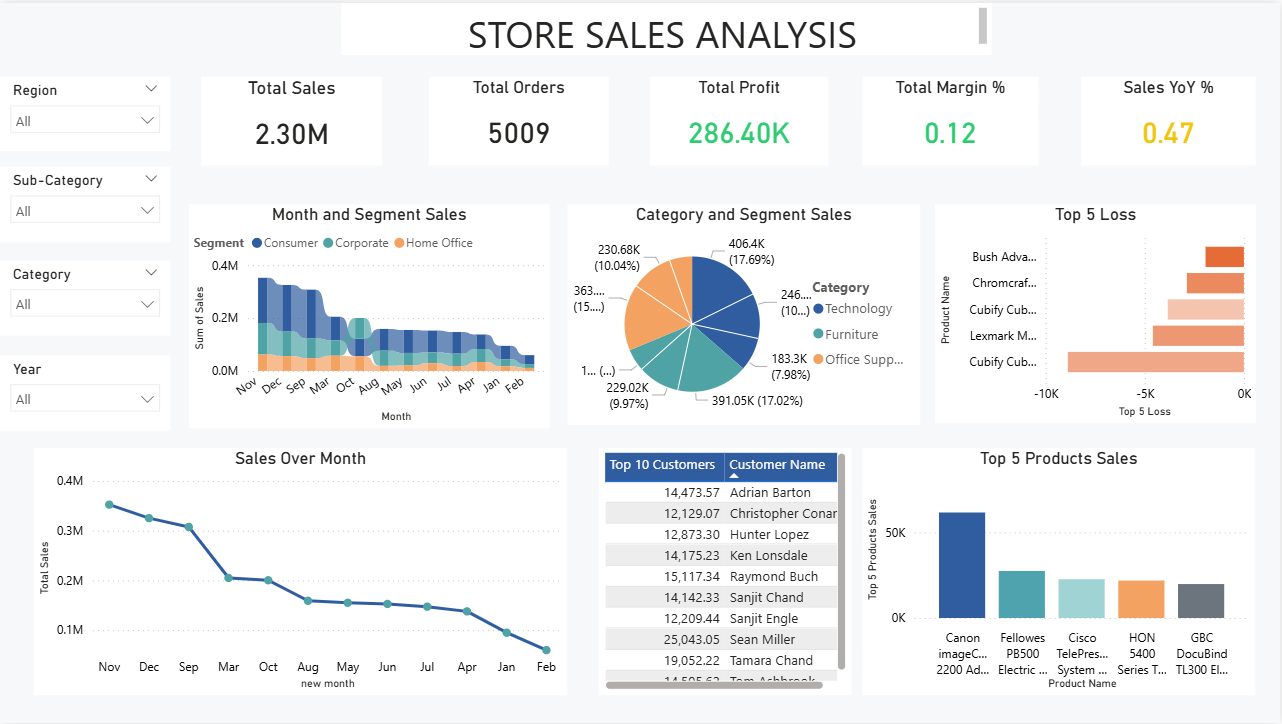

The dashboard page shown, as its layout file describes it:
{"tool":"powerbi","page":{"name":"sales","canvas":[1280,720],"ordinal":0},"visuals":[{"type":"slicer","fields":{"Values":["Date Table.Year"]},"box":[0,559.9,170.2,76.8],"z":0},{"type":"slicer","fields":{"Values":["Sample - Superstore.Region"]},"box":[0,90.6,170.2,83.7],"z":1000},{"type":"slicer","fields":{"Values":["Sample - Superstore.Sub-Category"]},"box":[0,227.8,170.2,78.2],"z":2000},{"type":"slicer","fields":{"Values":["Sample - Superstore.Category"]},"box":[0,391.1,170.2,81],"z":3000},{"type":"lineChart","fields":{"Y":["m.Total Sales"],"Category":["Sample - Superstore.new month"]},"box":[469.3,430.9,393.8,256.6],"z":4000},{"type":"pieChart","fields":{"Category":["Sample - Superstore.Category"],"Y":["m.Total Sales"],"Series":["Sample - Superstore.Segment"]},"box":[588.7,196.2,352.7,218.2],"z":5000},{"type":"tableEx","fields":{"Values":["m.Top 10 Customers","Sample - Superstore.Customer Name"]},"box":[189.4,424,252.5,263.5],"z":6000},{"type":"lineStackedColumnComboChart","fields":{"Category":["Sample - Superstore.Product Name"],"Y":["m.Top 5 Products Sales"]},"box":[891.9,428.1,348.5,263.5],"z":7000},{"type":"barChart","fields":{"Category":["Sample - Superstore.Product Name"],"Y":["m.Top 5 Loss"]},"box":[941.4,195.7,305.7,218.6],"z":8000},{"type":"card","fields":{"Values":["m.Total Sales"]},"box":[190,74.3,182.9,100],"z":9000},{"type":"card","fields":{"Values":["m.Total Profit"]},"box":[654.3,74.3,181.4,100],"z":10000},{"type":"card","fields":{"Values":["m.Profit Margin %"]},"box":[862.9,74.3,181.4,100],"z":11000},{"type":"card","fields":{"Values":["m.Total Orders"]},"box":[441.4,74.3,182,100],"z":12000},{"type":"card","fields":{"Values":["m.Sales YoY %"]},"box":[1065.7,74.3,181.4,100],"z":13000},{"type":"textbox","box":[341.4,0,650,60],"z":14000},{"type":"ribbonChart","fields":{"Category":["Date Table.Month"],"Series":["Sample - Superstore.Segment"],"Y":["Sample - Superstore.Sales"]},"box":[170.2,190.7,380.1,223.7],"z":15000}]}

Visuals, with their boxes in screenshot pixels (x1, y1, x2, y2), scaled from the page's 1280x720 canvas onto the 1282x724 screenshot:
slicer - Date Table.Year: 0/563/170/640
slicer - Sample - Superstore.Region: 0/91/170/175
slicer - Sample - Superstore.Sub-Category: 0/229/170/308
slicer - Sample - Superstore.Category: 0/393/170/475
lineChart - m.Total Sales x Sample - Superstore.new month: 470/433/864/691
pieChart - Sample - Superstore.Category x m.Total Sales: 590/197/943/417
tableEx - m.Top 10 Customers x Sample - Superstore.Customer Name: 190/426/443/691
lineStackedColumnComboChart - Sample - Superstore.Product Name x m.Top 5 Products Sales: 893/430/1242/695
barChart - Sample - Superstore.Product Name x m.Top 5 Loss: 943/197/1249/417
card - m.Total Sales: 190/75/373/175
card - m.Total Profit: 655/75/837/175
card - m.Profit Margin %: 864/75/1046/175
card - m.Total Orders: 442/75/624/175
card - m.Sales YoY %: 1067/75/1249/175
textbox: 342/0/993/60
ribbonChart - Date Table.Month x Sample - Superstore.Segment: 170/192/551/417
